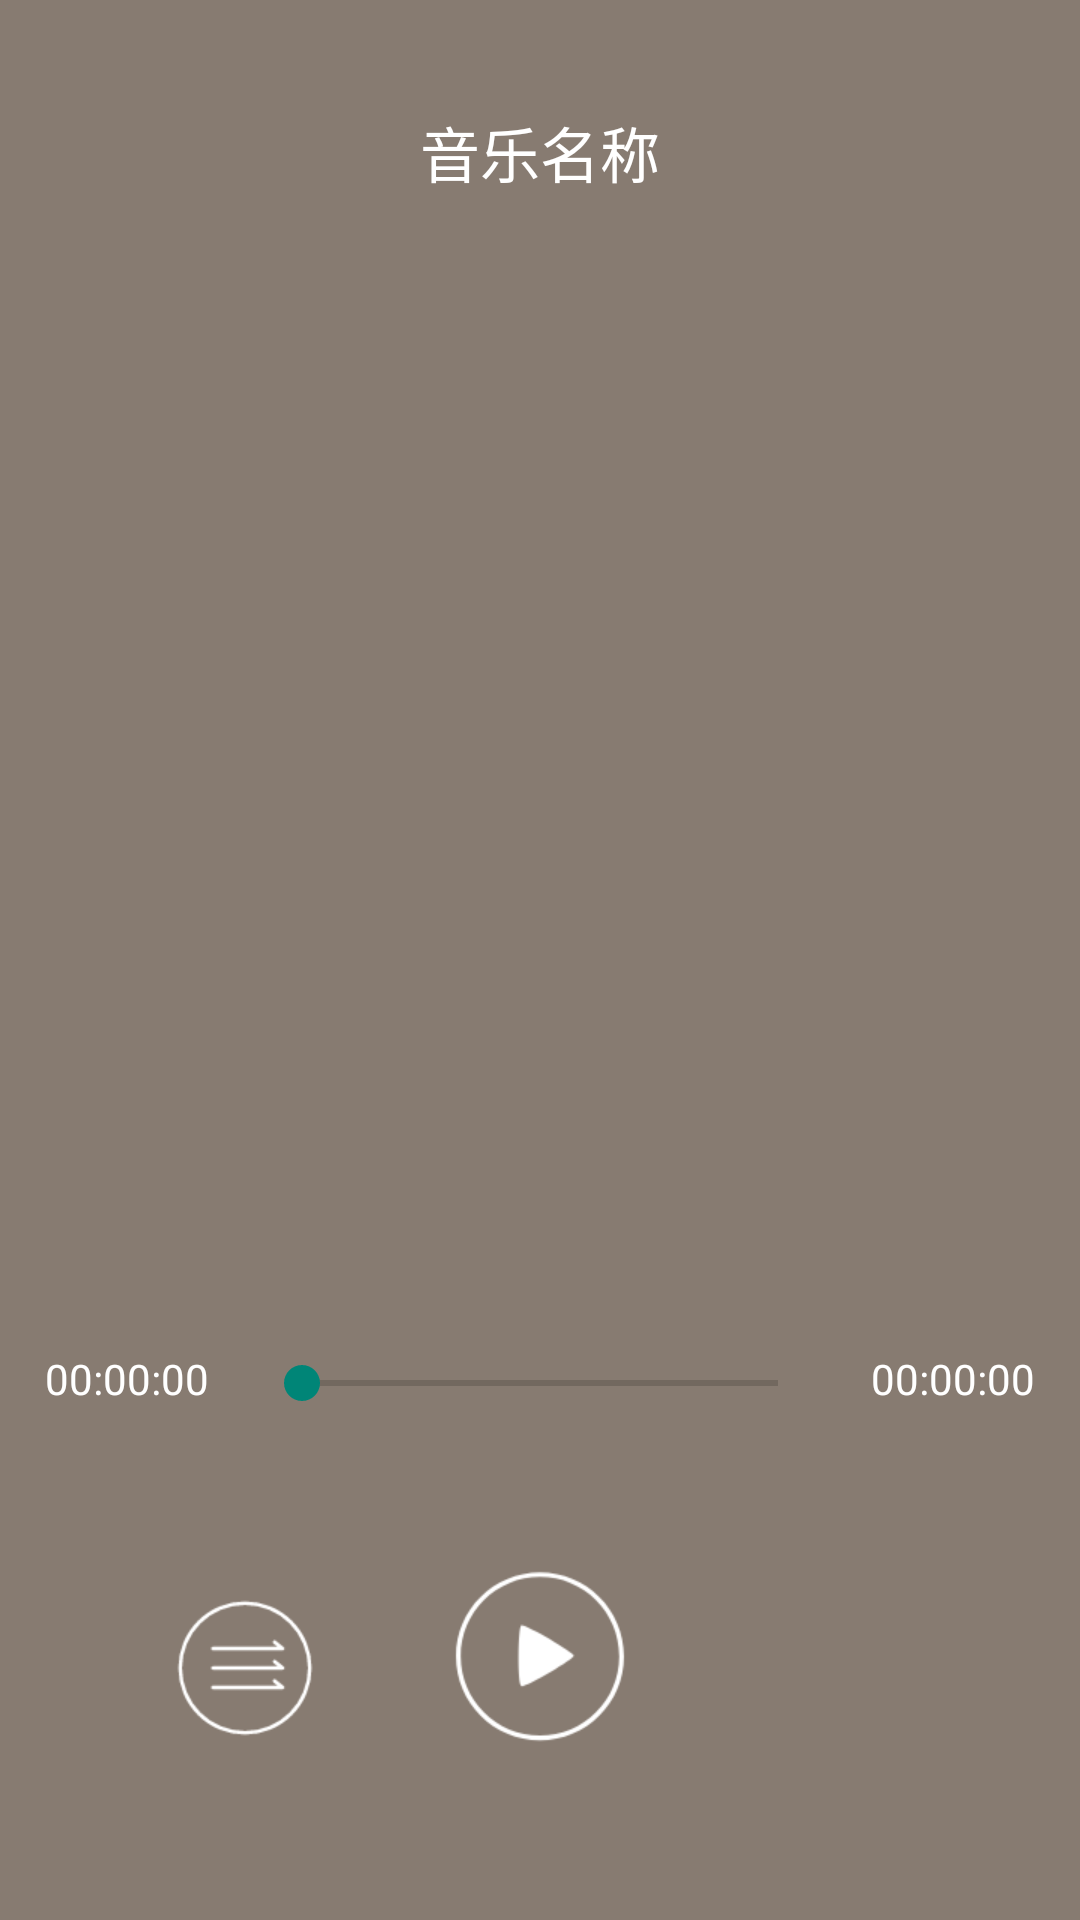

Screen size 1080 × 1920. Icon name, then its box in pixels as (x1=x1, y1=y1, x2=x2, y2=y2):
play: (x1=456, y1=1572, x2=624, y2=1741)
